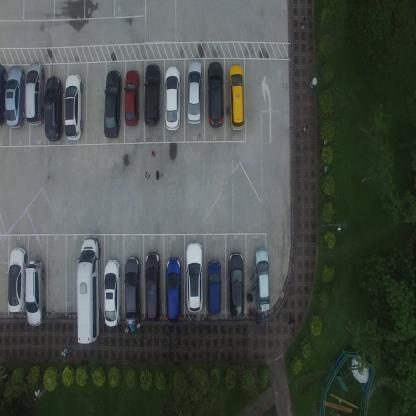car: (76, 236, 101, 345), (64, 72, 84, 142), (7, 245, 27, 313), (103, 68, 122, 139), (25, 259, 45, 326), (24, 61, 44, 126), (4, 64, 24, 129), (44, 75, 63, 142), (103, 258, 121, 328), (145, 250, 162, 322), (124, 255, 141, 327), (186, 242, 203, 313), (207, 60, 224, 130), (228, 63, 245, 132), (227, 251, 244, 320), (143, 63, 161, 127), (165, 257, 182, 324), (254, 247, 271, 313), (164, 64, 180, 132), (187, 59, 202, 126), (124, 68, 140, 127), (206, 258, 221, 316), (0, 63, 7, 128)
